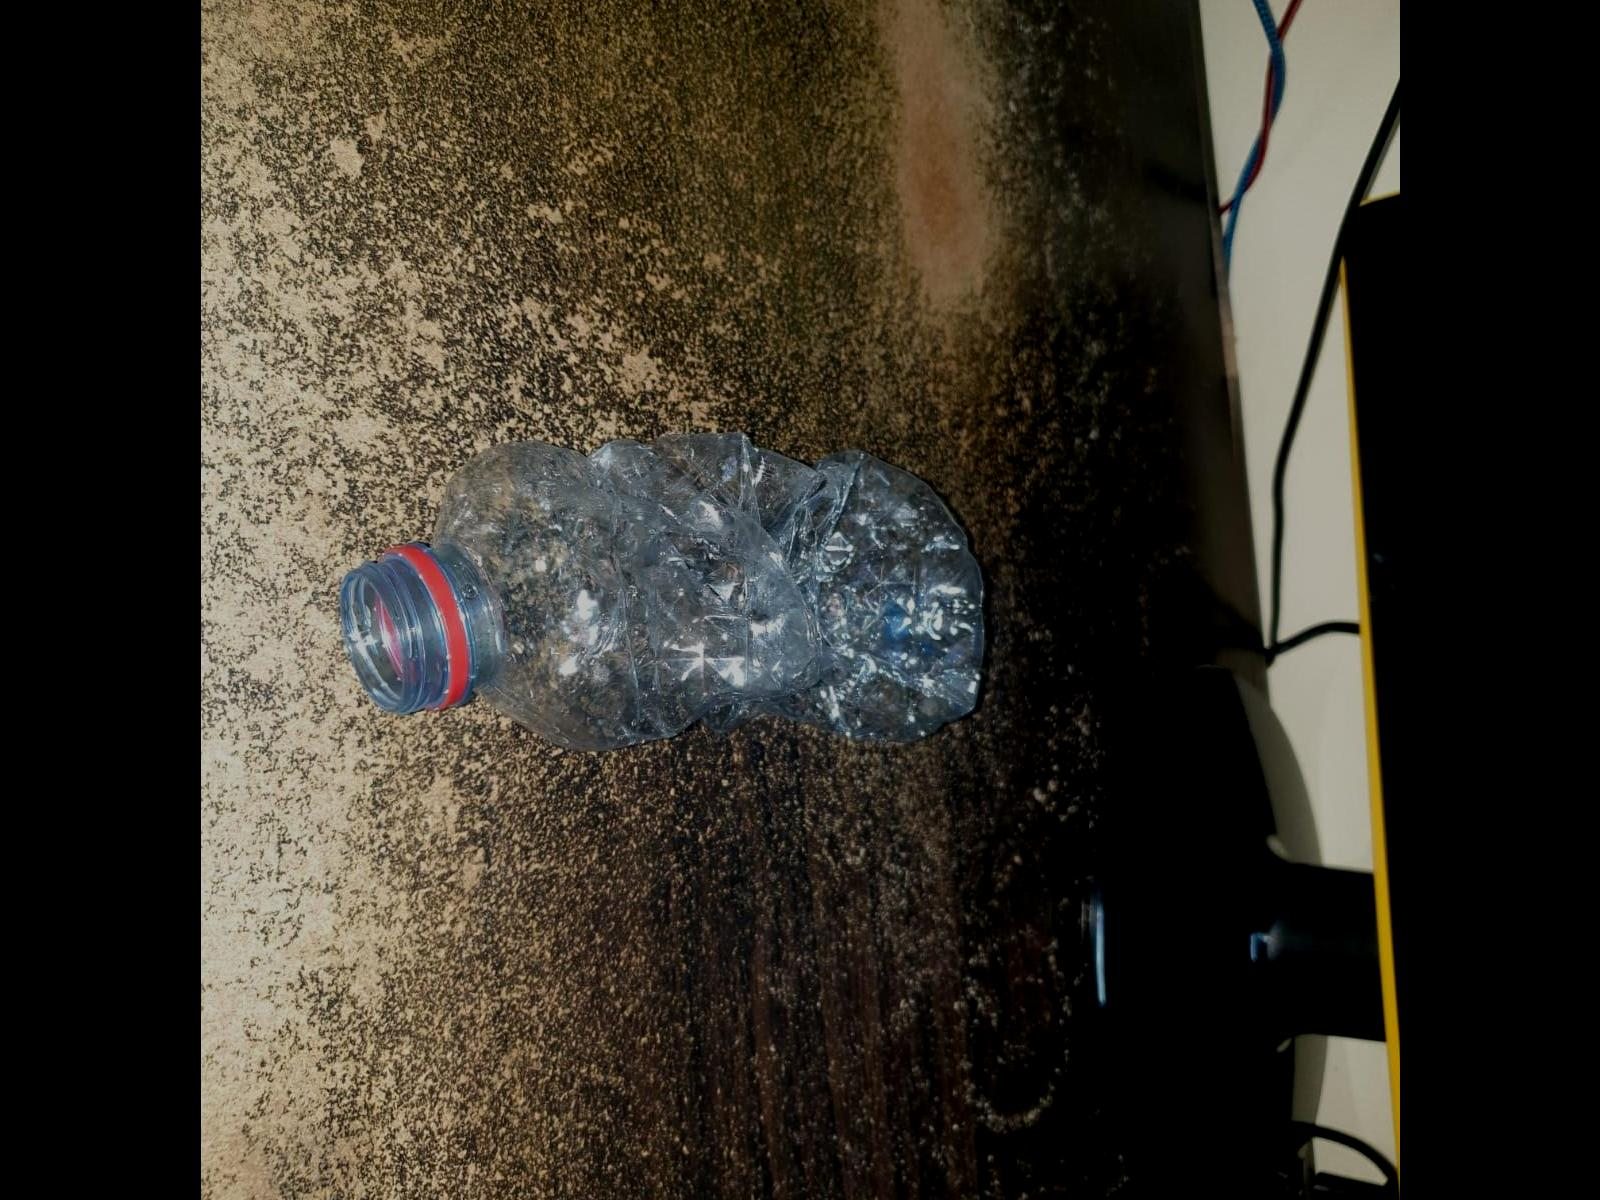bottle: (349, 424, 995, 749)
